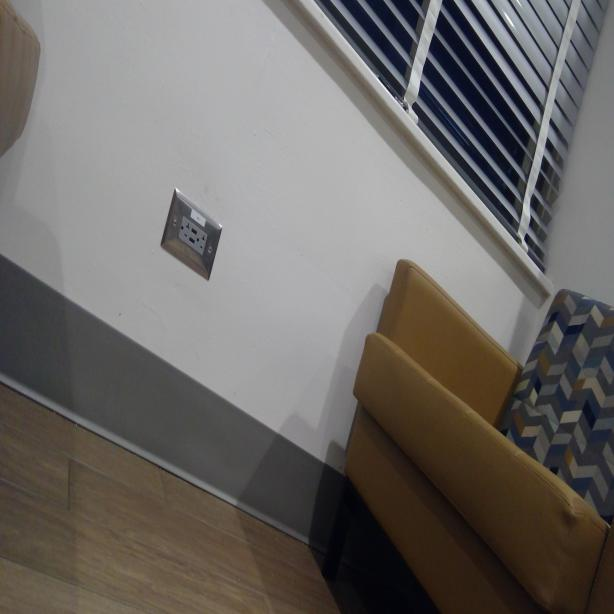typeb: (180, 216, 193, 240), (197, 230, 206, 257)
